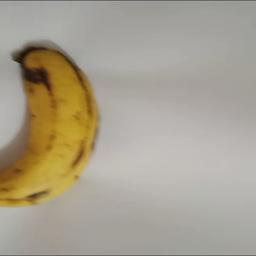Banana Unripe: (0, 46, 102, 206)
